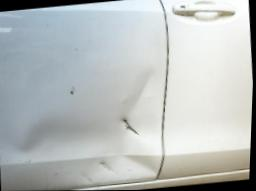Door: (53, 49, 190, 188)
